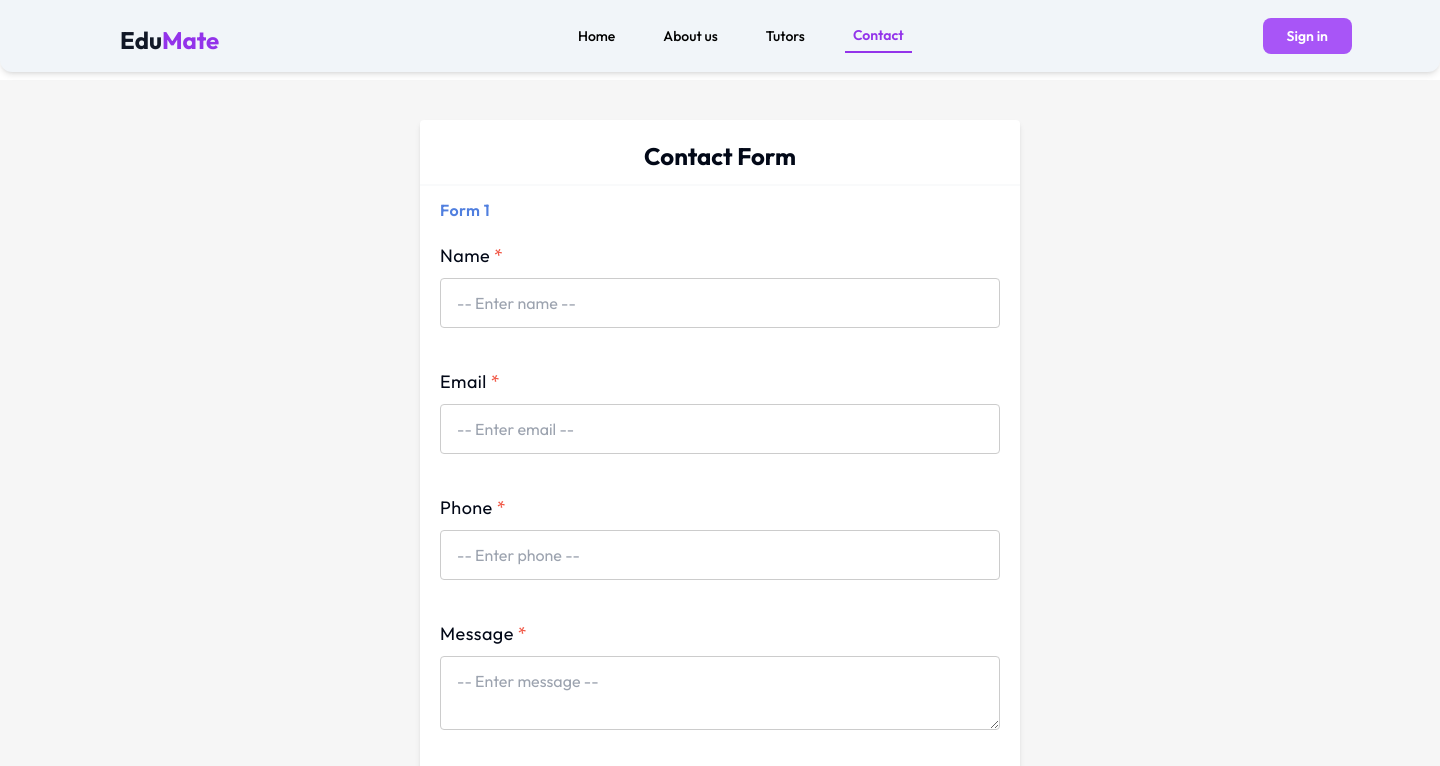
Test: Form Component › should show validation errors for invalid data
The image size is (1440, 766).
Type "invalid-email" into the field named "email".
click(720, 429); type("invalid-email")  # box [440,404,1000,454]
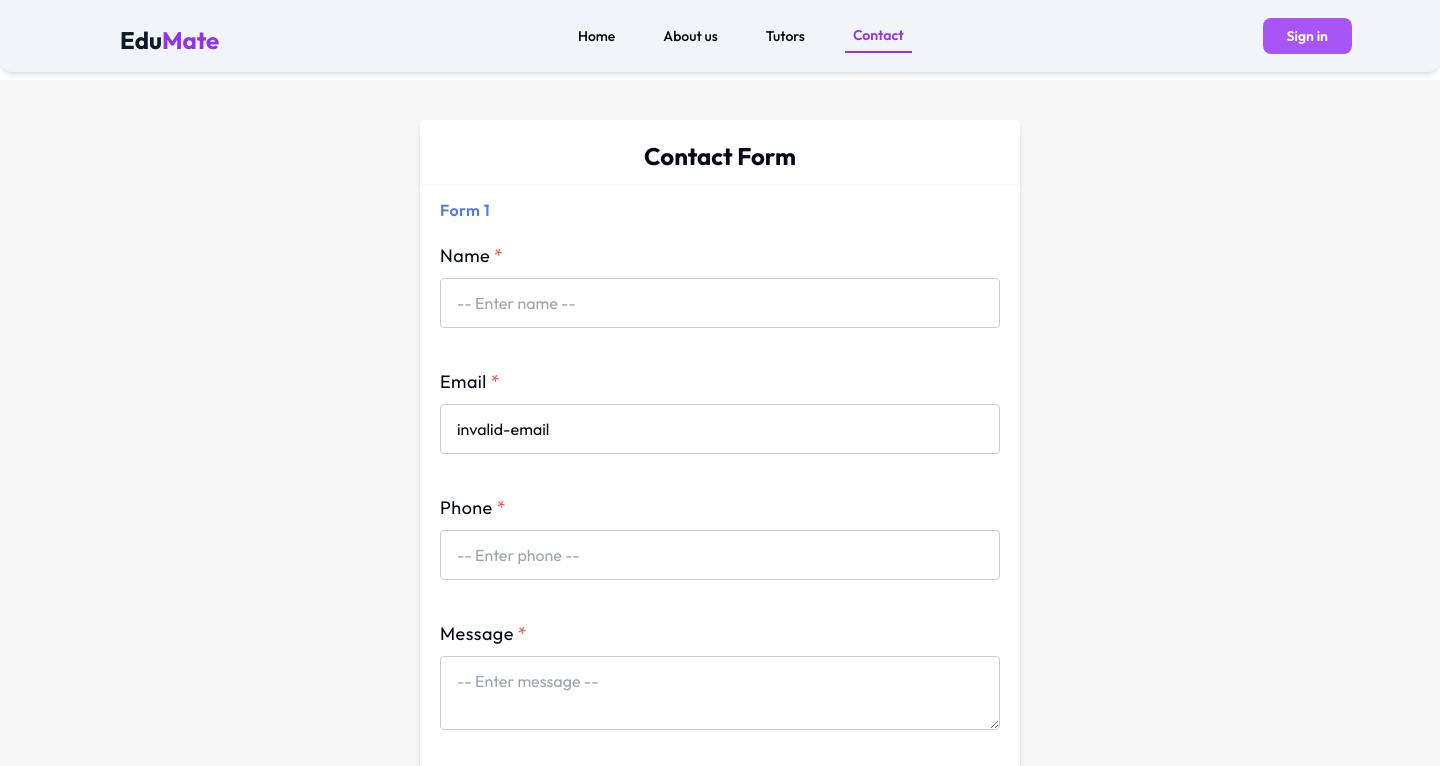
Scroll
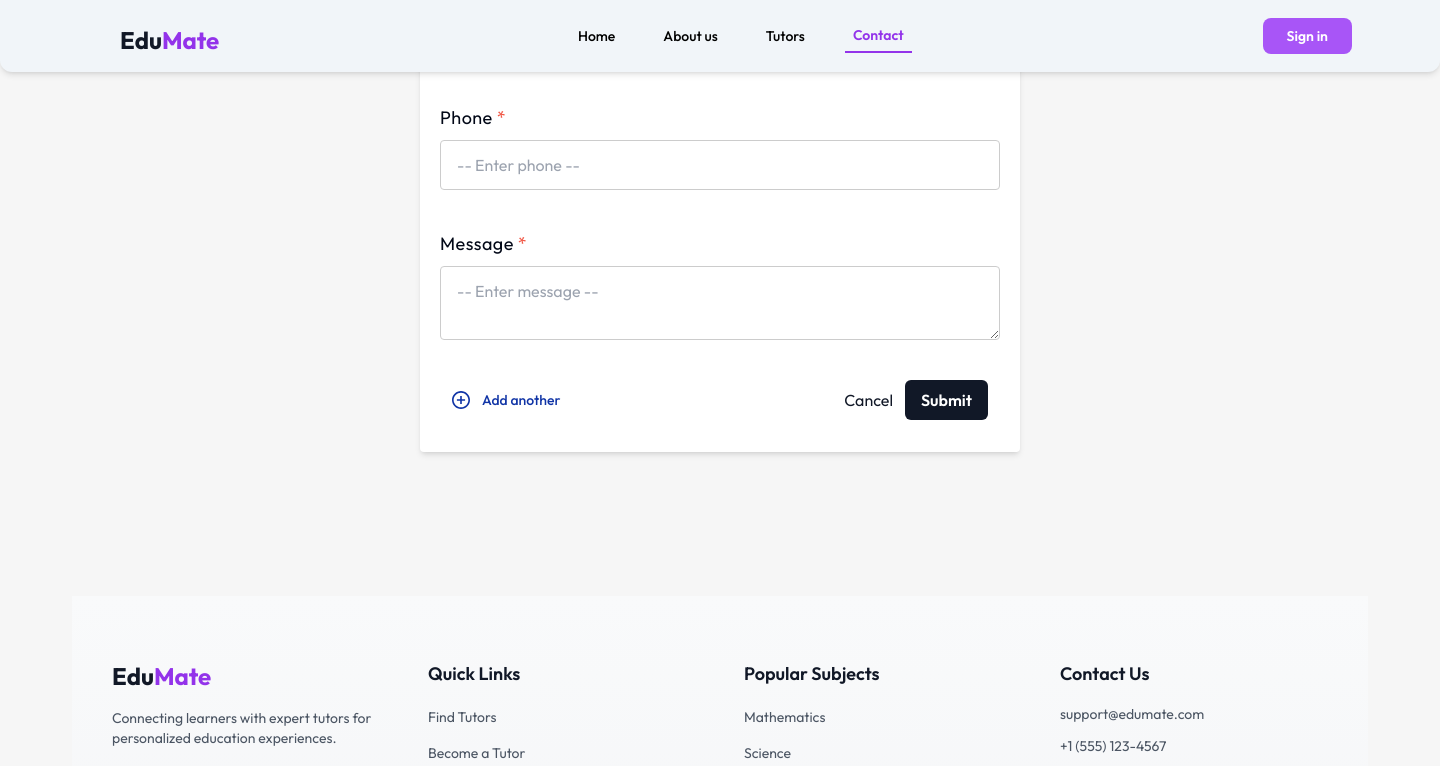
Click the button "Submit".
click(947, 400)  # box [905,380,988,420]
(page scrolled)
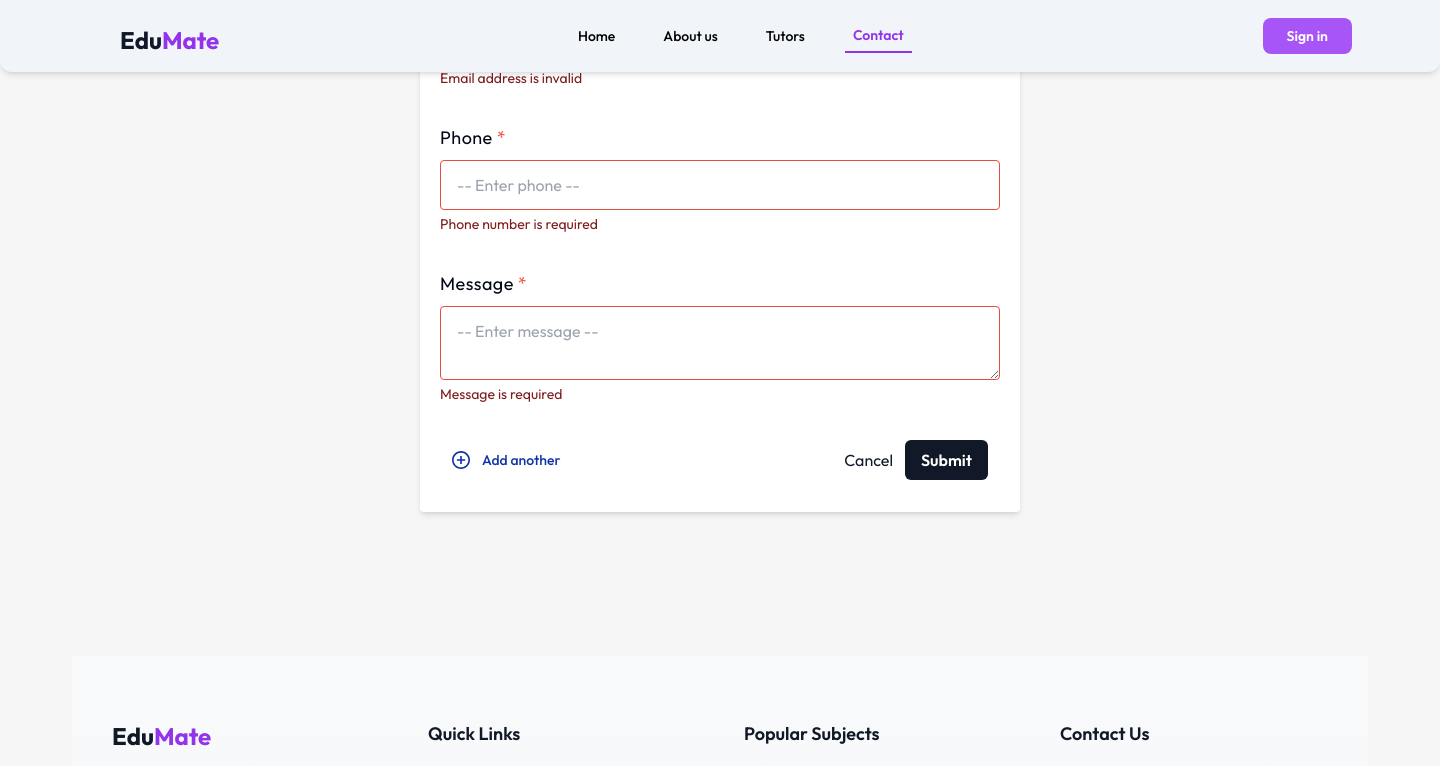
Check: the text with test id "error-message" reads "Email address is invalid", box [440,69,582,87]
